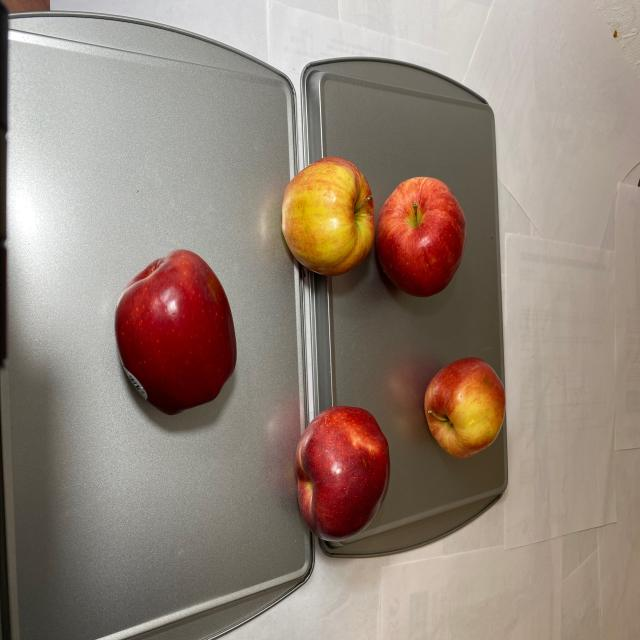apple: (109, 157, 506, 545)
